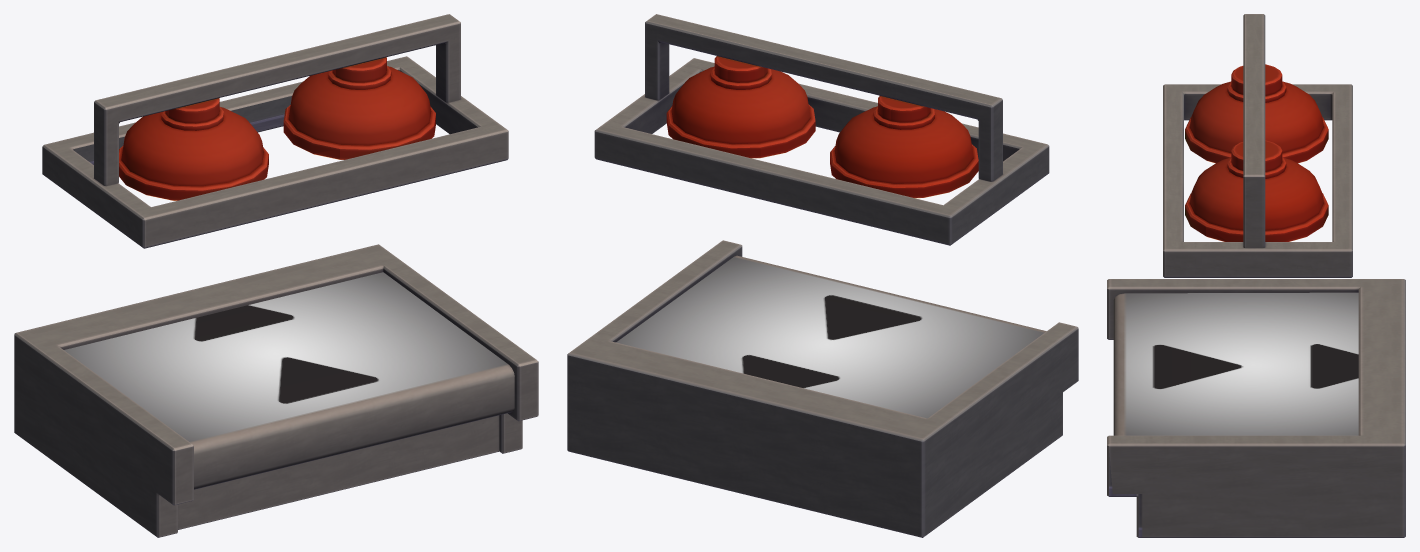
File: serveDishes.gltf
3 renders of one model, left to right at view 1: azimuth 30°, elevation 25°; view 2: azimuth 150°, elevation 25°; view 3: azimuth 270°, elevation 25°, orthographic. The views are drawn at different scales.
Parts seen in each view (by area): view 1: Object_4.003; view 2: Object_4.003; view 3: Object_4.003.
Part boxes in pixels (x1,y1,x2,y2): Object_4.003: [14, 14, 538, 537]; Object_4.003: [567, 14, 1078, 537]; Object_4.003: [1107, 14, 1405, 537].
Size of the model in its own units: 4 by 4.05 by 3.04.
1 material, 1 textured.
